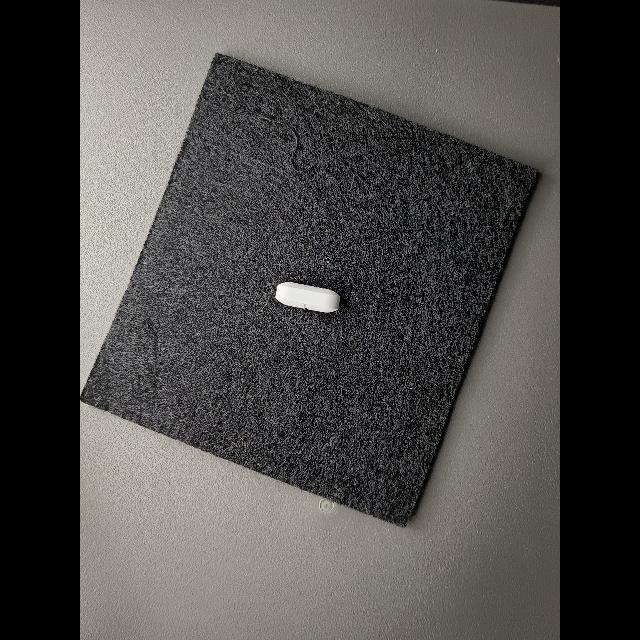Intact Pill: (275, 282, 340, 313)
